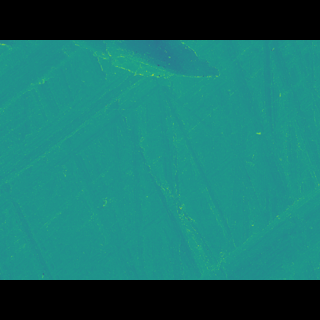Loch: (0, 97, 193, 198), (198, 179, 319, 248), (62, 69, 221, 100)
